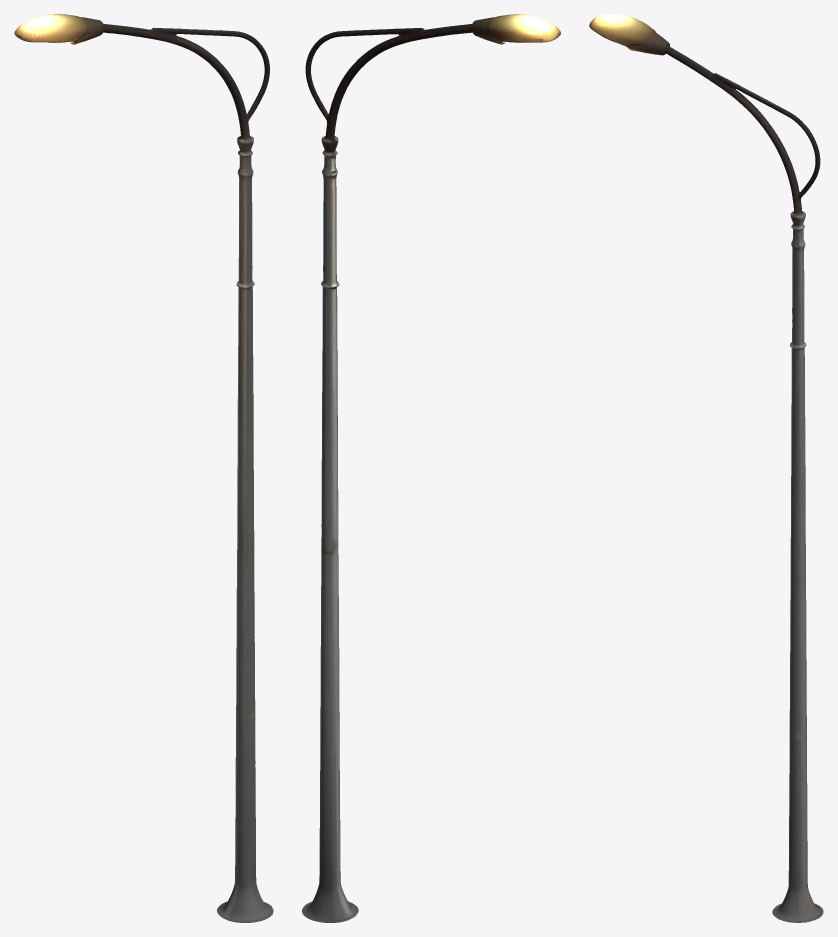
File: Meshy_AI_Lone_Streetlight_0701084055_texture.fbx
3 views of the same model, side by side, from view 1: azimuth 30°, elevation 25°; view 2: azimuth 150°, elevation 25°; view 3: azimuth 330°, elevation 25° (orthographic). The views are drawn at different scales.
Parts seen in each view (by area): view 1: Mesh_0; view 2: Mesh_0; view 3: Mesh_0.
Part boxes in pixels (x1=…): Mesh_0: x1=14, y1=14, x2=273, y2=922; Mesh_0: x1=302, y1=14, x2=560, y2=922; Mesh_0: x1=589, y1=14, x2=823, y2=922.
Bounding box in the file's own units: 53.24 × 190 × 10.31.
Materials: 1 (1 with a texture image).
